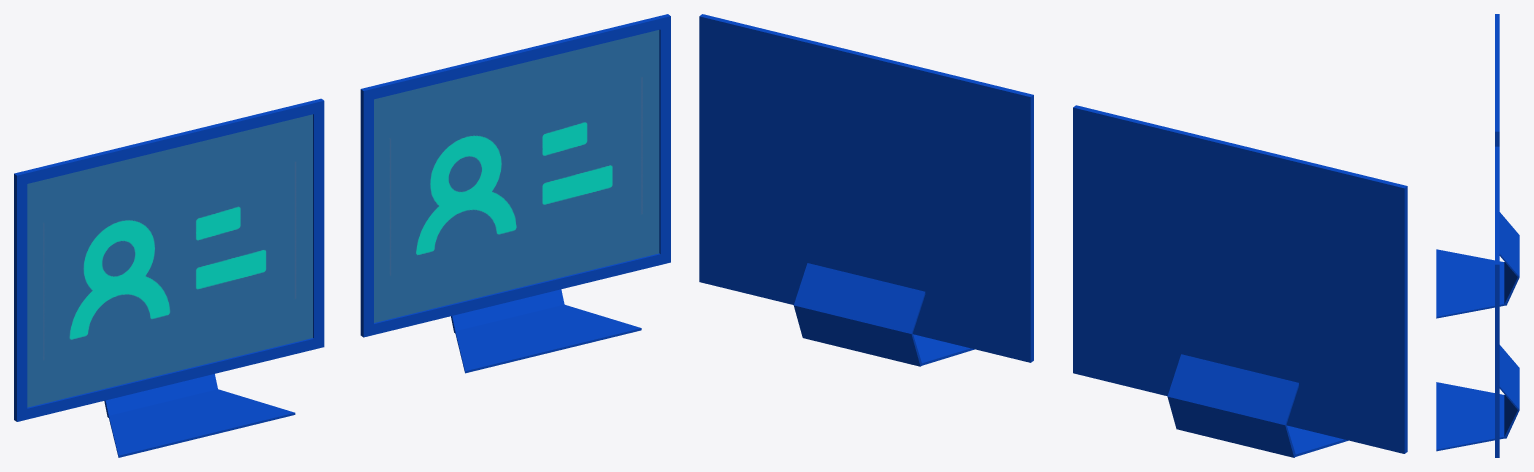
The model's file is webs.FBX.
3 renders of one model, left to right at view 1: azimuth 30°, elevation 25°; view 2: azimuth 150°, elevation 25°; view 3: azimuth 270°, elevation 25°, orthographic. The views are drawn at different scales.
Parts seen in each view (by area): view 1: 对象426, 对象427, 工程师站组; view 2: 工程师站组; view 3: 工程师站组.
Part boxes in pixels (x1,y1,x2,y2): 对象426: [27, 114, 312, 407]; 对象427: [374, 30, 659, 322]; 工程师站组: [14, 14, 670, 457]; 工程师站组: [699, 14, 1407, 457]; 工程师站组: [1436, 14, 1519, 457].
Size of the model in its own units: 1681 by 665 by 237.
Materials: 2 (1 with a texture image).
